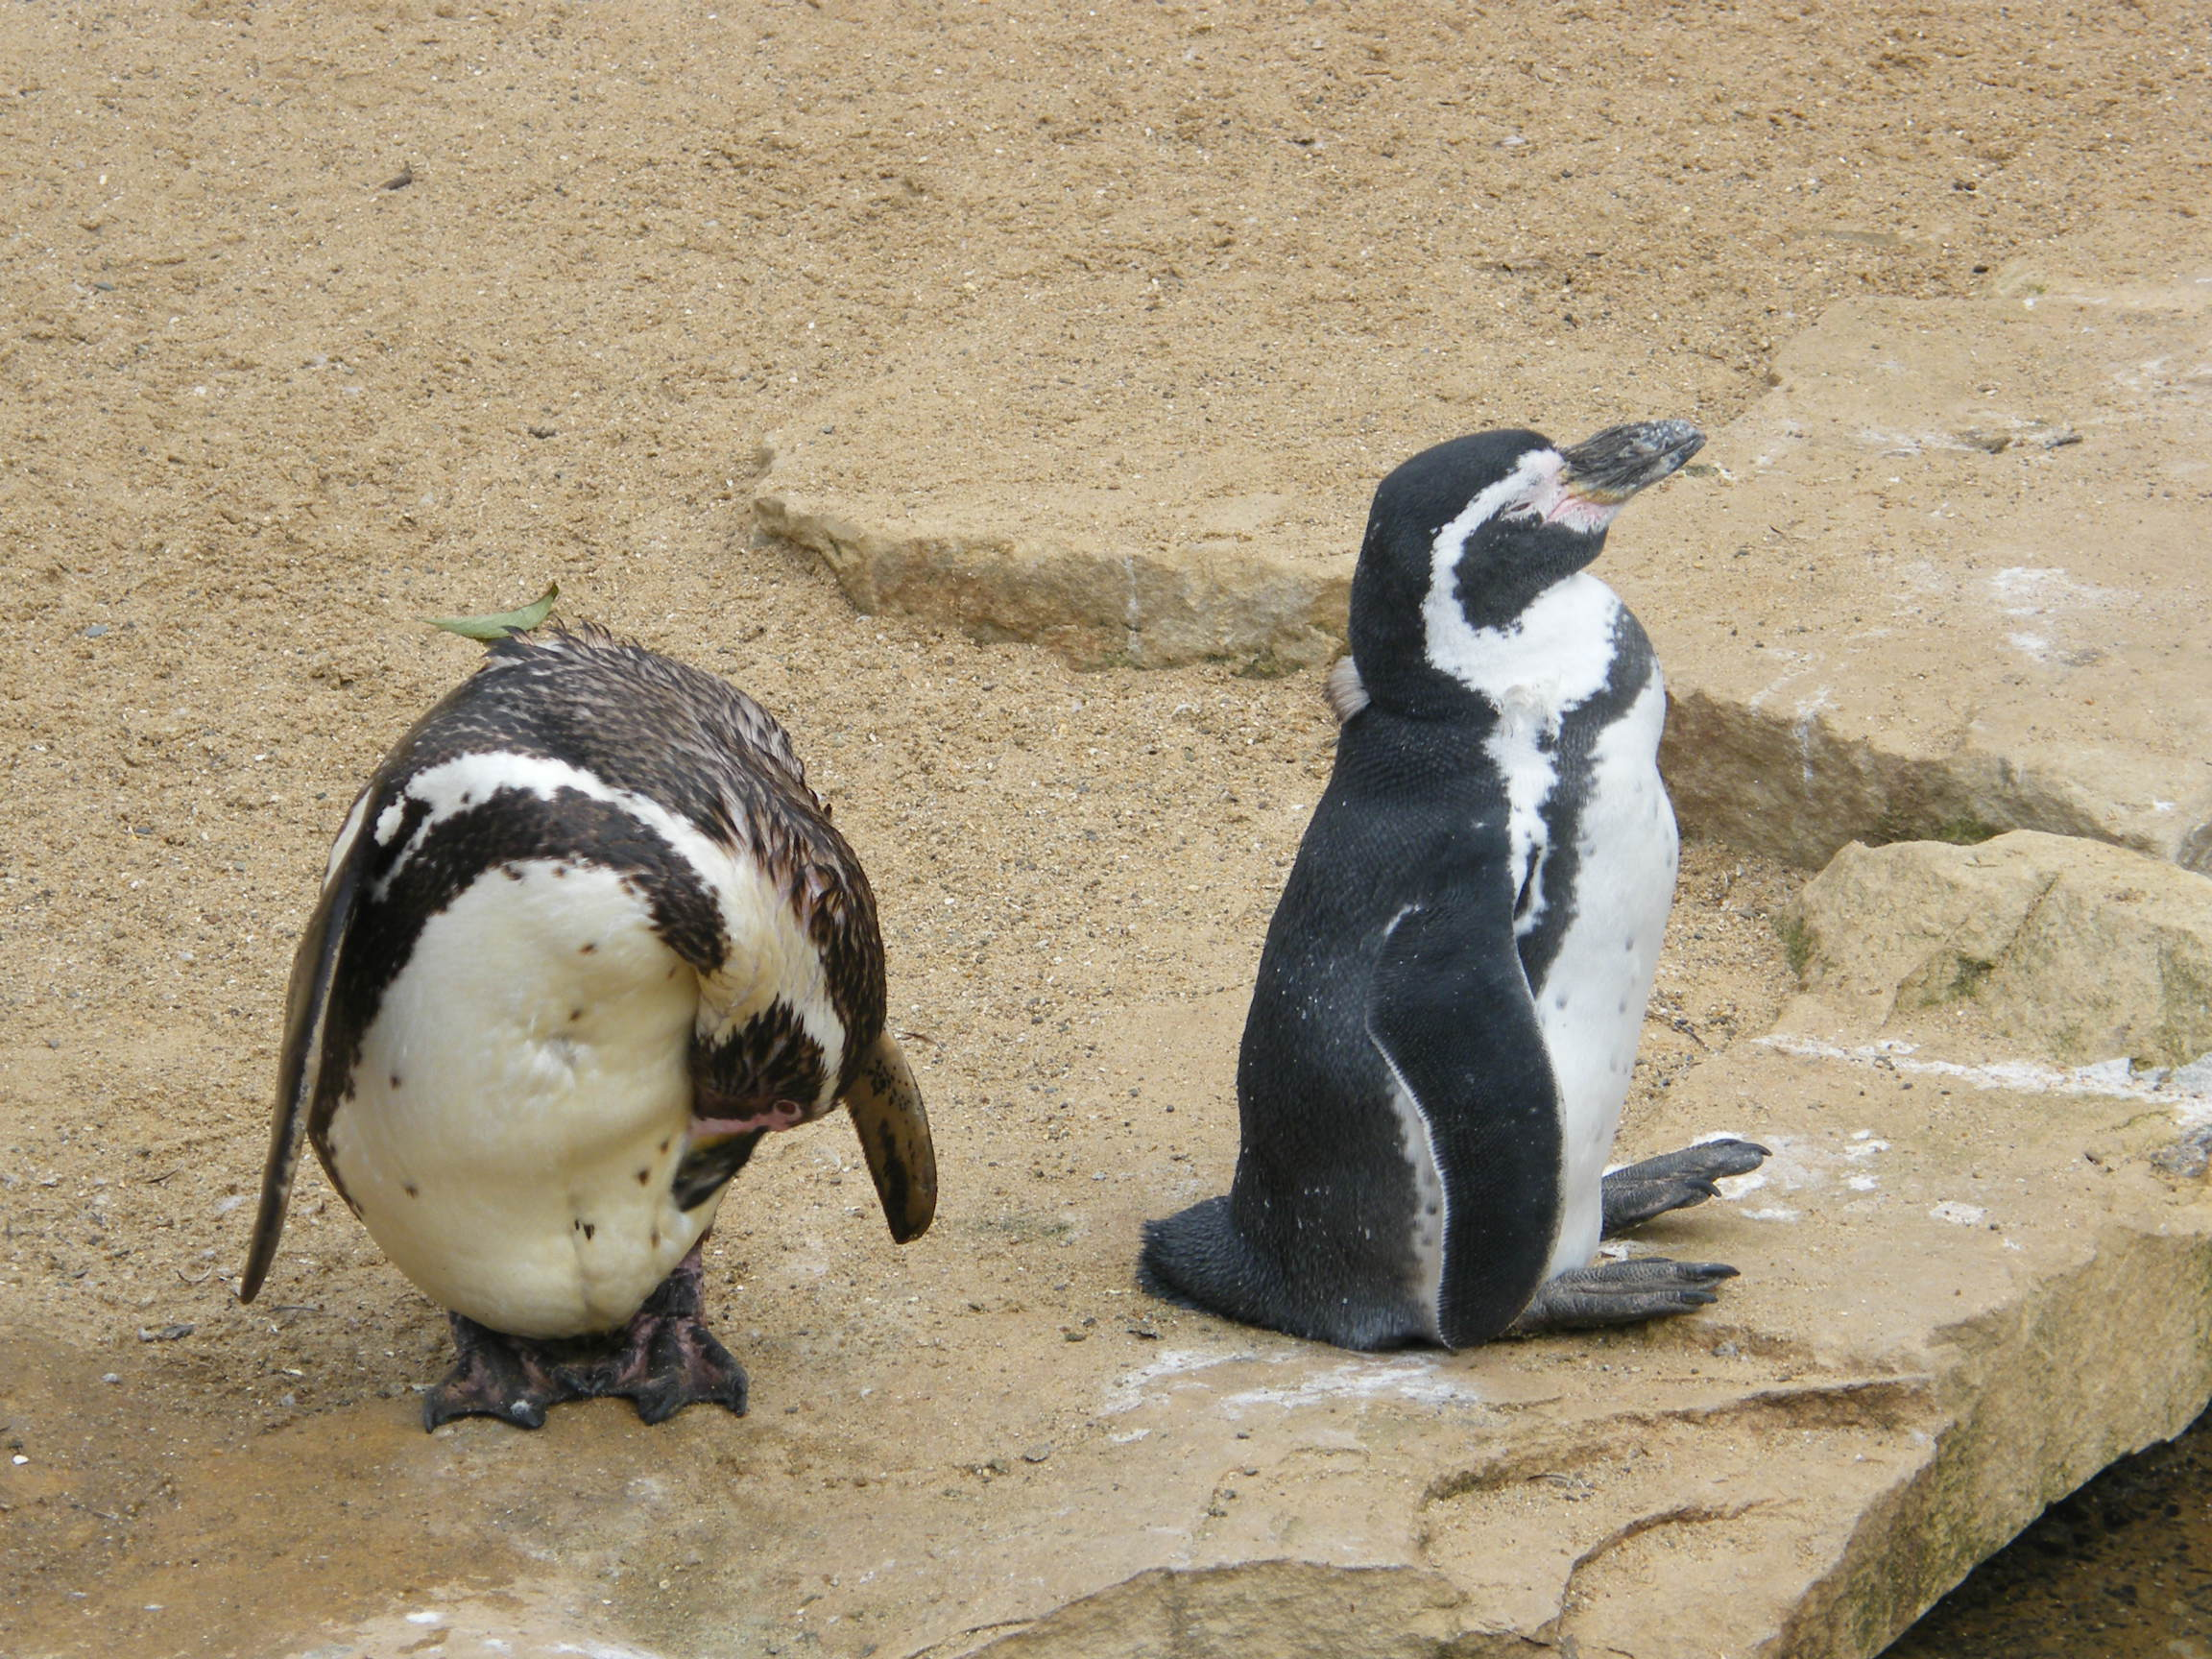penguin: (1143, 410, 1792, 1342), (284, 615, 942, 1448)
